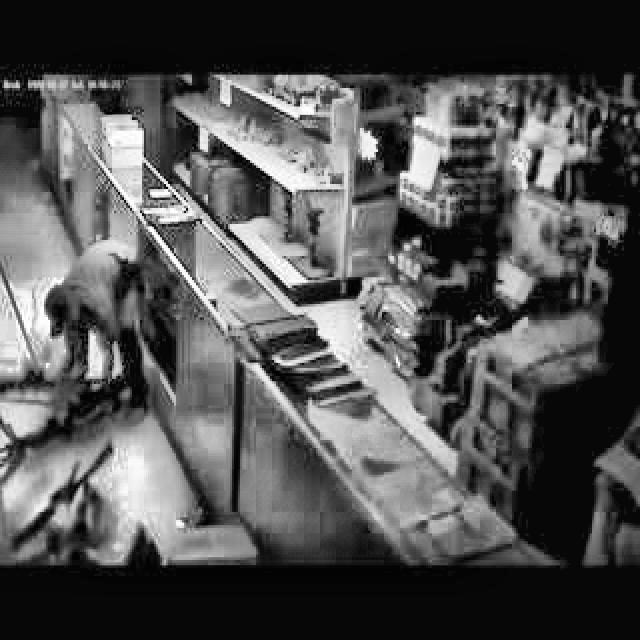burglary: (0, 231, 156, 439), (0, 439, 165, 564)
